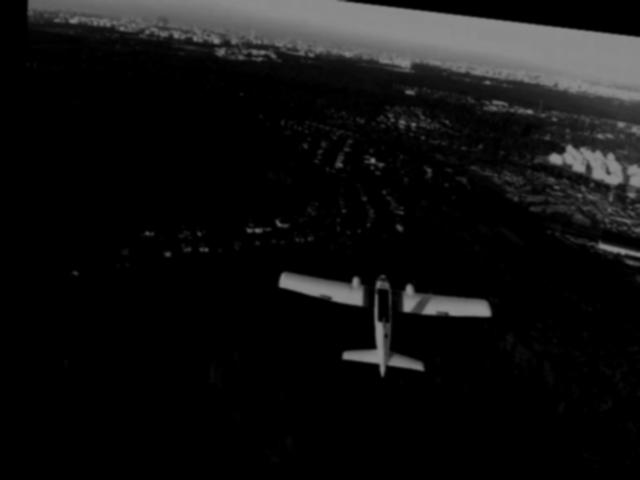hedef: (256, 248, 496, 392)
